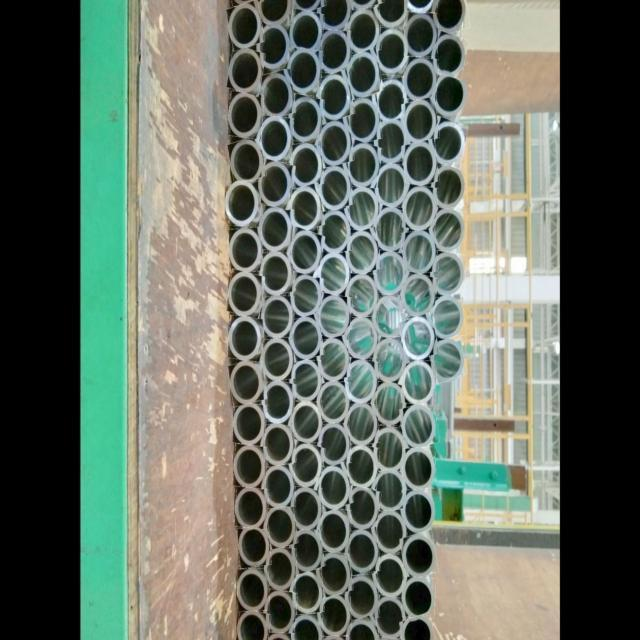pipe: (256, 116, 292, 160), (226, 181, 260, 226), (318, 74, 351, 120), (229, 92, 262, 138), (401, 361, 436, 404), (229, 272, 263, 316), (259, 162, 292, 207), (229, 3, 262, 48), (229, 317, 263, 360), (404, 142, 437, 186), (348, 52, 380, 97), (288, 49, 320, 94), (344, 318, 378, 360), (404, 187, 437, 230), (402, 317, 435, 360), (374, 555, 407, 598), (259, 207, 292, 250), (230, 48, 262, 92), (377, 29, 408, 74), (345, 404, 378, 446), (231, 362, 264, 404), (434, 75, 466, 118), (403, 405, 435, 448), (346, 361, 378, 404), (290, 317, 322, 360), (231, 139, 263, 182), (230, 229, 262, 272), (377, 164, 409, 206), (347, 188, 379, 230), (318, 296, 350, 338), (261, 339, 293, 381), (433, 209, 464, 252), (405, 231, 436, 274), (375, 252, 406, 295), (375, 339, 406, 382), (374, 383, 405, 426), (349, 9, 380, 52), (320, 121, 351, 164), (319, 467, 350, 510), (291, 231, 322, 274), (237, 569, 268, 612), (404, 58, 437, 98), (321, 166, 351, 210), (433, 340, 464, 382), (406, 14, 437, 56), (406, 100, 437, 142), (403, 274, 434, 316), (262, 73, 293, 115), (234, 404, 265, 446), (348, 577, 378, 620), (291, 187, 321, 230), (292, 445, 322, 488), (350, 98, 379, 142), (433, 297, 464, 338), (403, 535, 434, 576), (374, 297, 405, 338), (347, 275, 378, 316), (318, 383, 349, 424), (292, 275, 323, 316), (261, 253, 292, 294), (262, 297, 293, 338), (234, 447, 265, 488), (404, 492, 434, 534), (348, 232, 378, 274), (320, 339, 350, 381), (320, 512, 350, 554), (293, 97, 321, 142), (264, 382, 294, 424), (266, 550, 296, 592), (350, 143, 379, 186), (293, 143, 322, 186), (261, 24, 289, 68), (435, 121, 465, 162), (434, 253, 464, 294), (376, 513, 406, 554), (319, 425, 349, 466), (292, 403, 322, 444), (263, 425, 293, 466), (264, 467, 294, 508), (349, 532, 378, 574), (266, 593, 295, 635), (322, 30, 350, 73), (435, 34, 465, 74), (404, 449, 434, 489), (292, 361, 322, 401), (348, 447, 377, 488), (321, 555, 350, 596), (319, 598, 350, 636), (350, 488, 378, 530), (376, 472, 406, 511), (376, 599, 406, 638), (236, 489, 266, 528), (239, 529, 269, 568), (376, 429, 405, 469), (320, 254, 349, 294), (293, 574, 322, 614), (265, 508, 294, 548), (436, 167, 464, 208), (293, 489, 321, 530), (379, 120, 406, 162), (377, 208, 404, 250), (322, 212, 350, 252), (403, 579, 433, 616), (292, 11, 322, 48), (378, 79, 406, 118), (295, 532, 322, 572), (435, 0, 465, 32), (322, 0, 350, 28)
